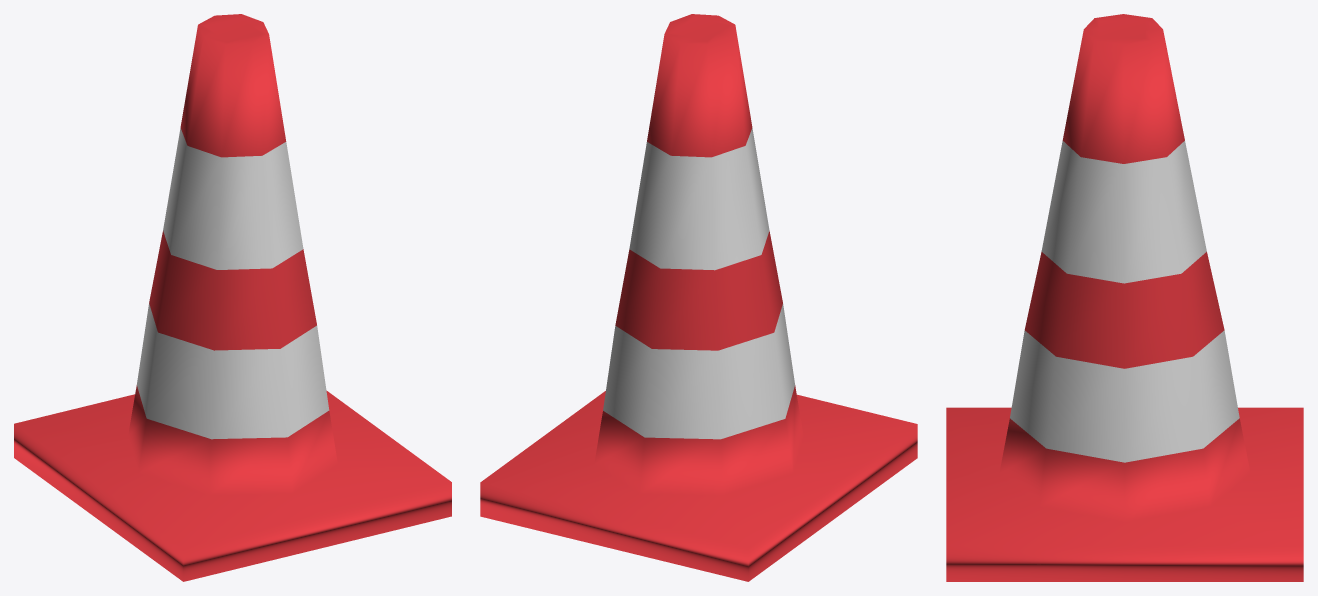
File: Construction Hat.fbx
3 views of the same model, side by side, from view 1: azimuth 30°, elevation 25°; view 2: azimuth 150°, elevation 25°; view 3: azimuth 270°, elevation 25° (orthographic). The views are drawn at different scales.
Visible parts, largest first — view 1: Cube; view 2: Cube; view 3: Cube.
Part boxes in pixels (box(x1,y1,x2,y2)): Cube: box(14, 14, 451, 581); Cube: box(480, 14, 917, 581); Cube: box(946, 14, 1303, 581).
Bounding box in the file's own units: 183 × 299 × 200.
